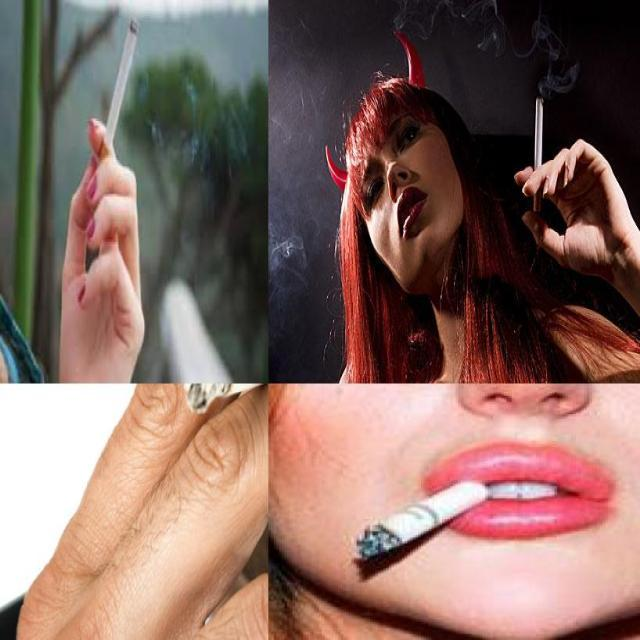smoking: (356, 481, 489, 558), (96, 17, 138, 182), (532, 95, 546, 214)
